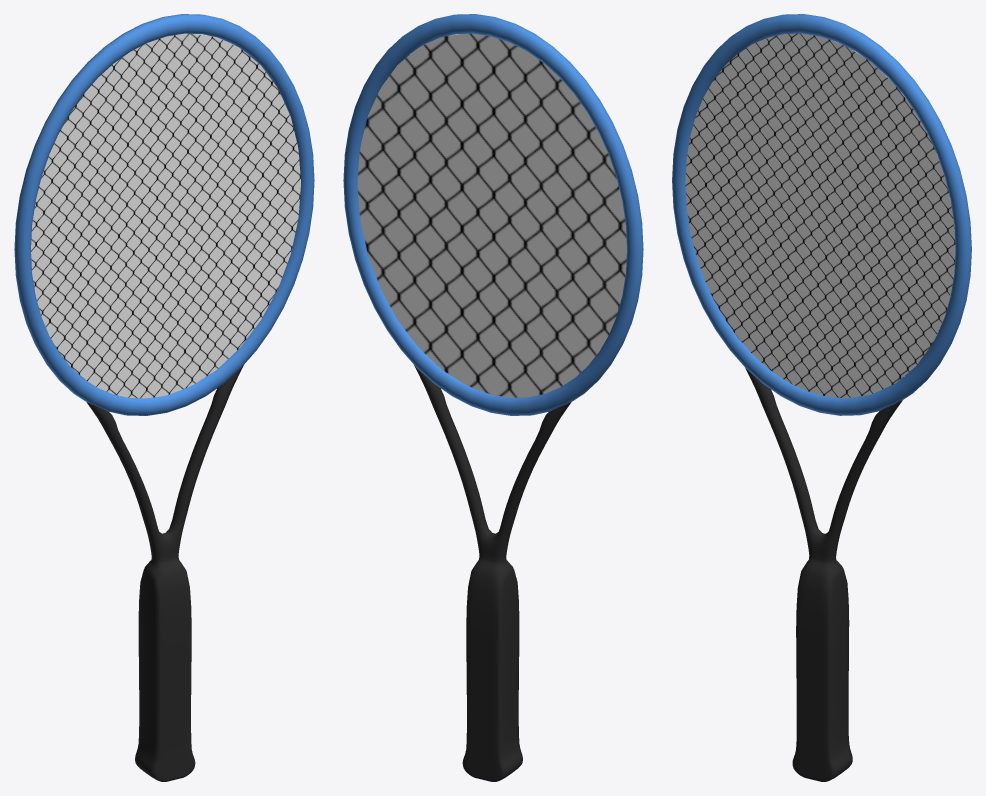
The model's file is racquet.fbx.
3 renders of one model, left to right at view 1: azimuth 30°, elevation 25°; view 2: azimuth 150°, elevation 25°; view 3: azimuth 330°, elevation 25°, orthographic.
Parts seen in each view (by area): view 1: Cylinder, BezierCircle, Cube; view 2: Cylinder, BezierCircle, Cube; view 3: Cylinder, BezierCircle, Cube.
Boxes of the visible parts, bbox=[...] form: Cylinder: bbox=[31, 33, 300, 398]; BezierCircle: bbox=[14, 14, 314, 415]; Cube: bbox=[86, 365, 243, 781]; Cylinder: bbox=[357, 33, 626, 397]; BezierCircle: bbox=[343, 14, 643, 415]; Cube: bbox=[414, 365, 571, 781]; Cylinder: bbox=[685, 33, 955, 398]; BezierCircle: bbox=[672, 14, 971, 415]; Cube: bbox=[745, 368, 902, 781].
Size of the model in its own units: 205 by 498 by 24.55.
